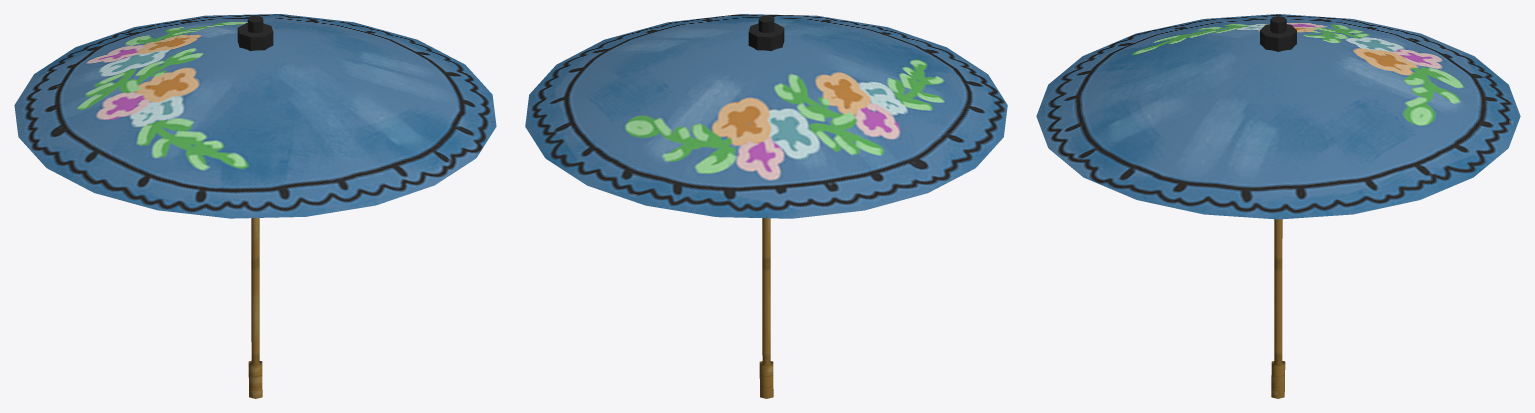
File: umbrella_A.fbx
3 renders of one model, left to right at view 1: azimuth 30°, elevation 25°; view 2: azimuth 150°, elevation 25°; view 3: azimuth 270°, elevation 25°, orthographic.
Visible parts, largest first — view 1: umbrella1; view 2: umbrella1; view 3: umbrella1.
Boxes of the visible parts, x1,y1,x2,y2 form: umbrella1: (14,14,496,398); umbrella1: (525,14,1007,398); umbrella1: (1036,14,1520,398).
Size of the model in its own units: 2.48 by 2.13 by 2.48.
1 material, 1 textured.
